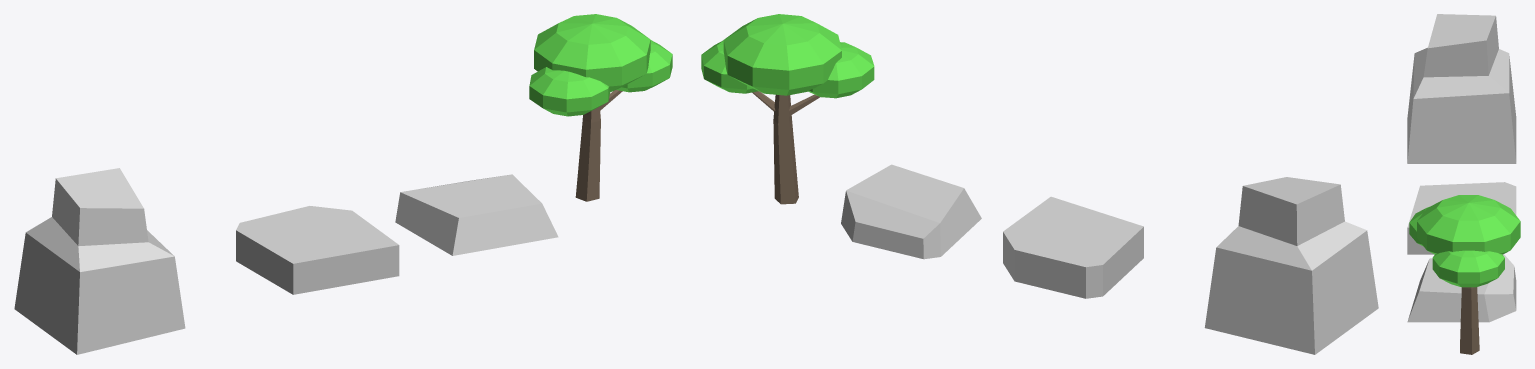
File: rock_tree.fbx
3 views of the same model, side by side, from view 1: azimuth 30°, elevation 25°; view 2: azimuth 150°, elevation 25°; view 3: azimuth 270°, elevation 25° (orthographic). The views are drawn at different scales.
Parts seen in each view (by area): view 1: rock_fall_1, tree_fall, rock_fall_2, rock_fall_3; view 2: rock_fall_1, tree_fall, rock_fall_2, rock_fall_3; view 3: rock_fall_1, tree_fall, rock_fall_3, rock_fall_2.
Boxes of the visible parts, x1,y1,x2,y2 form: rock_fall_1: (14, 168, 185, 354); tree_fall: (529, 14, 672, 201); rock_fall_2: (236, 206, 399, 294); rock_fall_3: (395, 174, 558, 255); rock_fall_1: (1204, 177, 1378, 354); tree_fall: (701, 14, 874, 204); rock_fall_2: (1003, 196, 1143, 298); rock_fall_3: (841, 164, 981, 259); rock_fall_1: (1407, 14, 1516, 163); tree_fall: (1409, 195, 1520, 354); rock_fall_3: (1407, 254, 1516, 322); rock_fall_2: (1407, 182, 1516, 254).
Bounding box in the file's own units: 1151 × 303 × 208.
